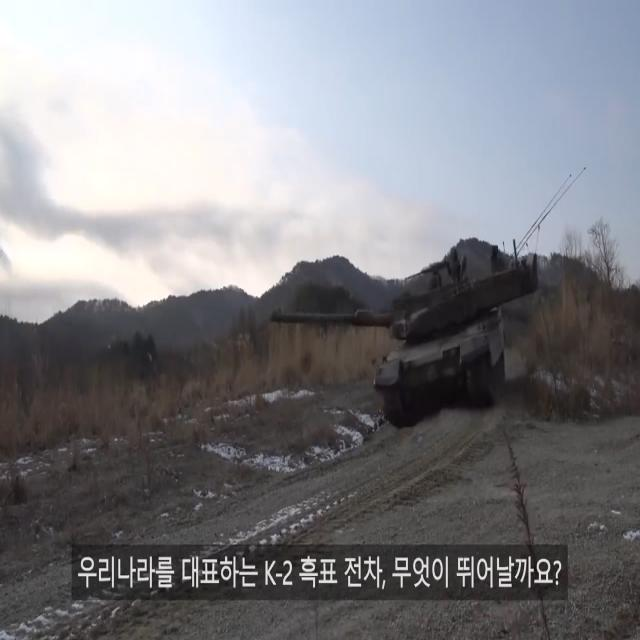korea tank: (268, 244, 540, 432)
